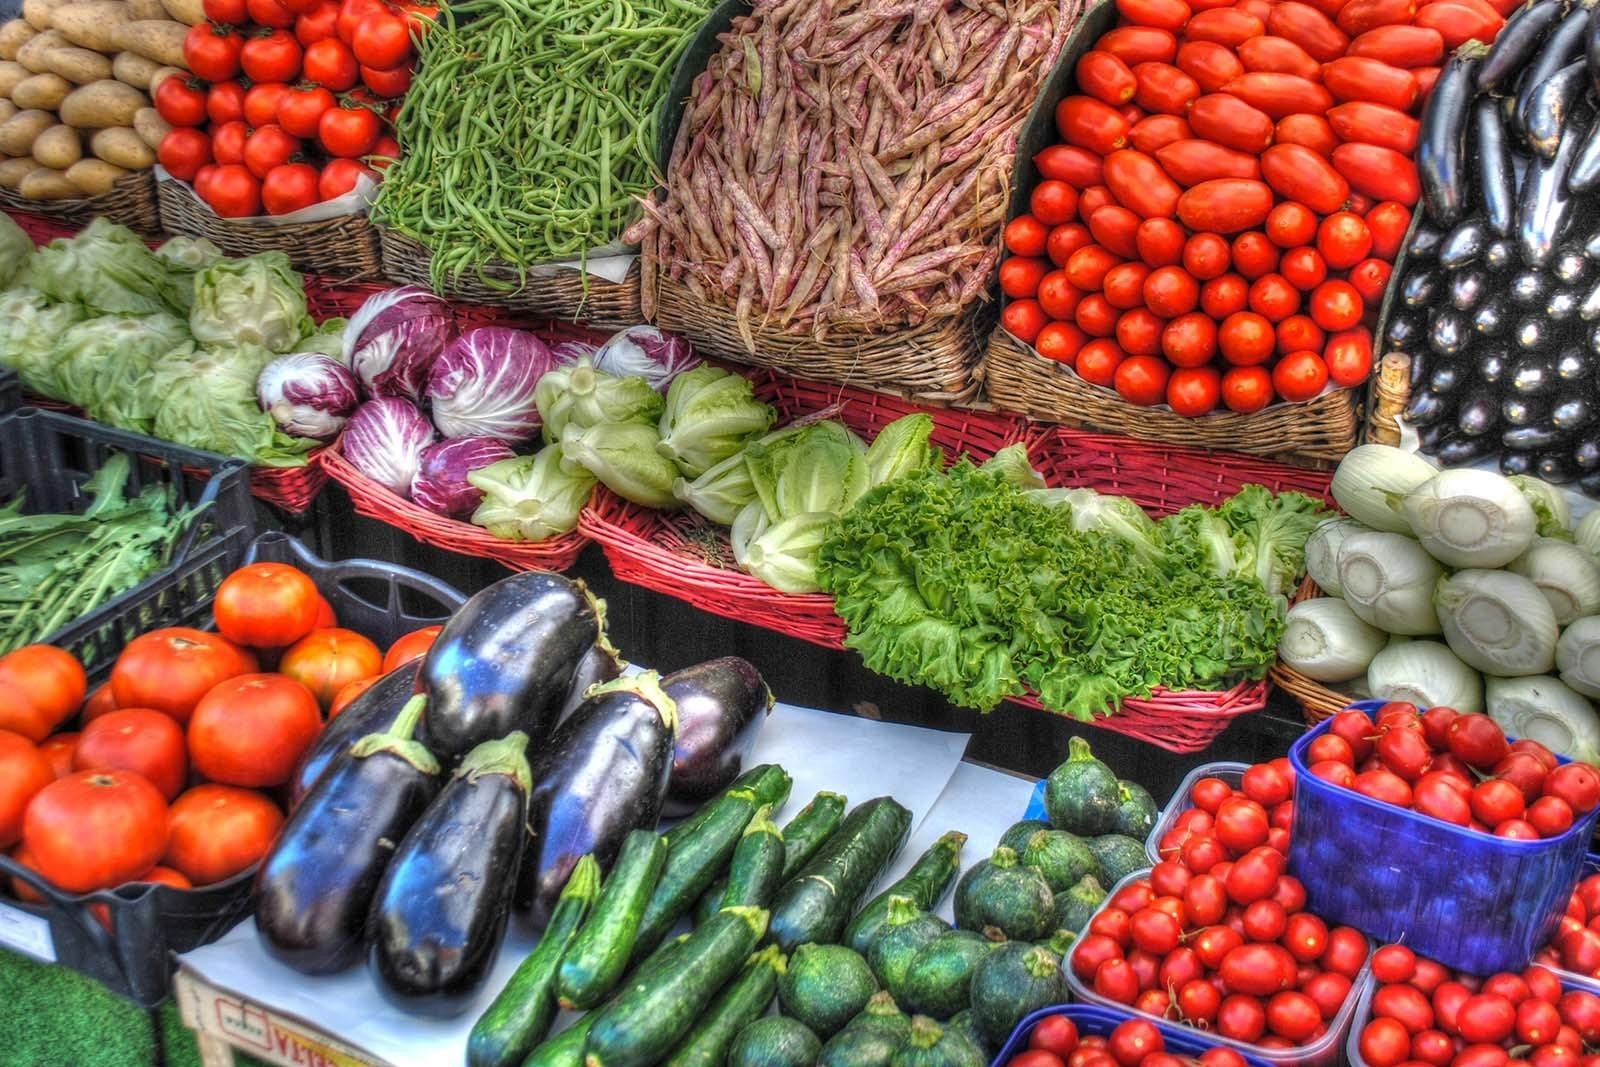cabbage: (476, 354, 877, 578), (1, 212, 350, 458)
eggplant: (231, 562, 760, 972), (1393, 0, 1600, 474)
potato: (0, 0, 207, 200)
tomato: (1001, 0, 1433, 385), (0, 561, 377, 880), (160, 0, 427, 219), (1370, 861, 1600, 1067), (1073, 875, 1346, 1047), (1300, 700, 1598, 841), (1173, 762, 1319, 886), (1010, 1007, 1242, 1065)
